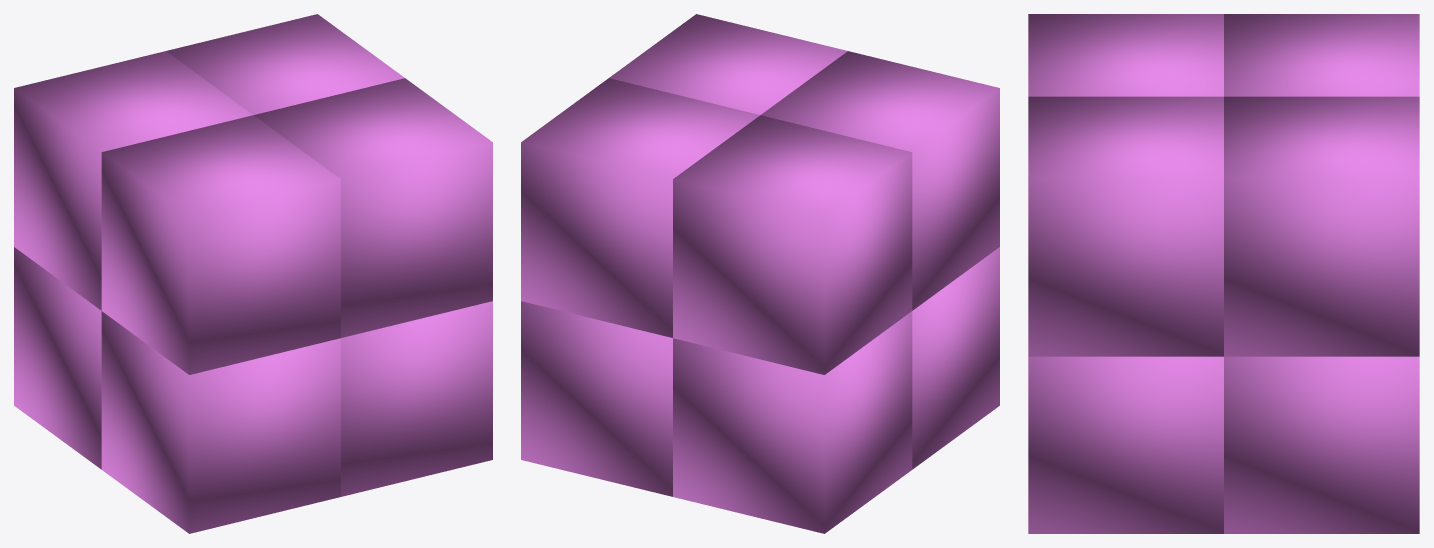
File: squares.glb
3 views of the same model, side by side, from view 1: azimuth 30°, elevation 25°; view 2: azimuth 150°, elevation 25°; view 3: azimuth 270°, elevation 25° (orthographic). The views are drawn at different scales.
Parts seen in each view (by area): view 1: Cube.011; view 2: Cube.011; view 3: Cube.011.
Boxes of the visible parts, x1,y1,x2,y2 form: Cube.011: (14,14,492,533); Cube.011: (521,14,999,533); Cube.011: (1028,14,1419,533).
Size of the model in its own units: 4 by 4 by 4.
